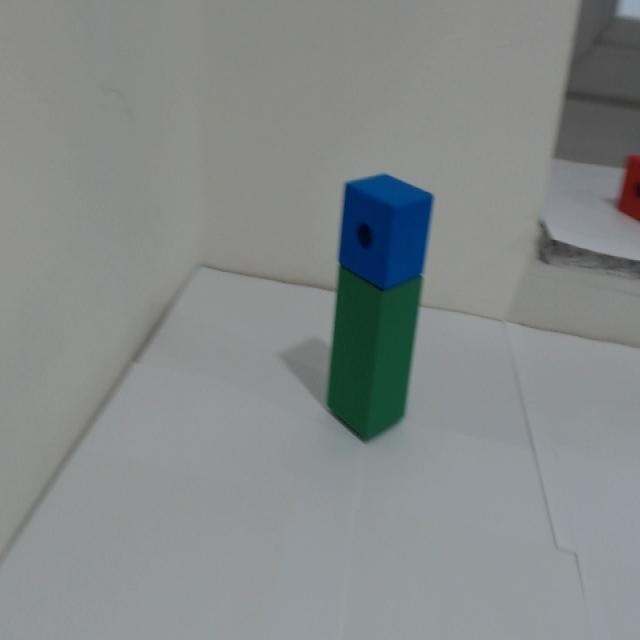cube: (316, 263, 415, 440), (334, 163, 437, 291)
